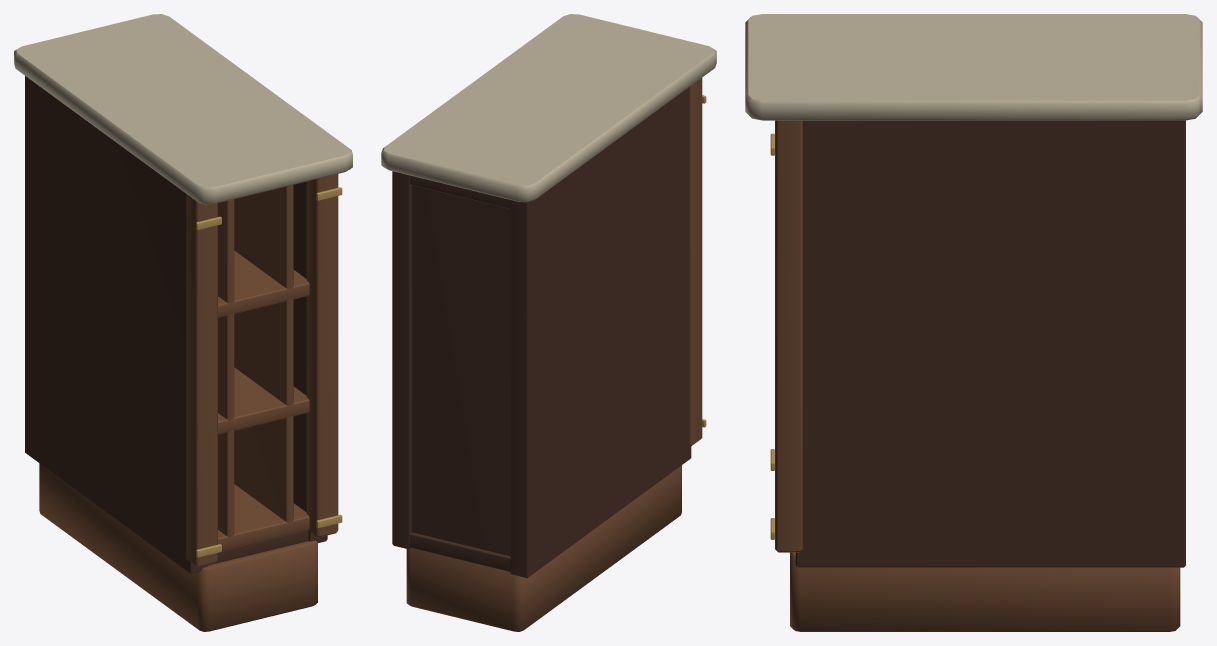
File: rpg-mansion-kitchen-bottle-rack-300-01.glb
3 views of the same model, side by side, from view 1: azimuth 30°, elevation 25°; view 2: azimuth 150°, elevation 25°; view 3: azimuth 270°, elevation 25° (orthographic). The views are drawn at different scales.
Parts seen in each view (by area): view 1: rpg-mansion-kitchen-bottle-rack-300-01; view 2: rpg-mansion-kitchen-bottle-rack-300-01; view 3: rpg-mansion-kitchen-bottle-rack-300-01.
Part boxes in pixels (x1=…): rpg-mansion-kitchen-bottle-rack-300-01: x1=14, y1=14, x2=352, y2=631; rpg-mansion-kitchen-bottle-rack-300-01: x1=381, y1=14, x2=716, y2=631; rpg-mansion-kitchen-bottle-rack-300-01: x1=745, y1=14, x2=1202, y2=631.
Size of the model in its own units: 0.3 by 0.85 by 0.65.
